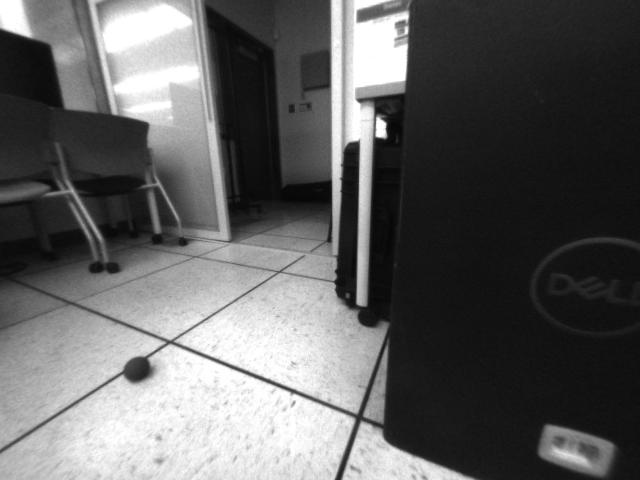dogtoy: (117, 351, 156, 385)
